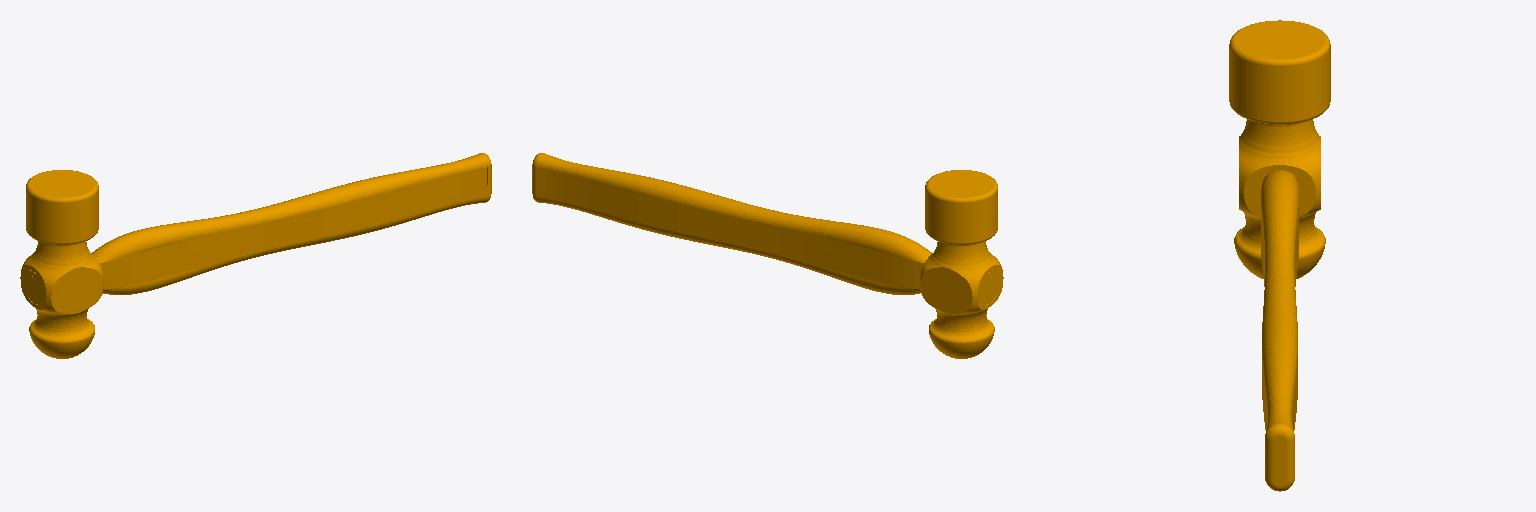
URDF robot description (hammer_2_L0.78_T0.76):
<?xml version="1.0" encoding="utf-8"?>
<robot name="hammer_2_L0.78_T0.76">
  <link name="hammer_2_L0.78_T0.76Link">
    <contact>
      <lateral_friction value="1"/>
    </contact>
    <inertial>
      <origin rpy="0 0 0" xyz="0 0 0"/>
      <mass value="0.0"/>
      <inertia ixx="0" ixy="0" ixz="0" iyy="0" iyz="0" izz="0"/>
    </inertial>
    <visual>
      <origin rpy="0 0 0" xyz="0 0 0"/>
      <geometry>
        <mesh filename="generated_stl/hammer/hammer_2/hammer_2_L0.78_T0.76/hammer_2_L0.78_T0.76.stl" scale="0.01 0.01 0.01"/>
      </geometry>
    </visual>
    <collision>
      <origin rpy="0 0 0" xyz="0 0 0"/>
      <geometry>
        <mesh filename="generated_stl/hammer/hammer_2/hammer_2_L0.78_T0.76/hammer_2_L0.78_T0.76.stl" scale="0.01 0.01 0.01"/>
      </geometry>
    </collision>
  </link>
</robot>

--- What the picture shows (computed from the rendered views, not written in the file) ---
The picture shows the robot from 3 angles, left to right: view 1: azimuth 30°, elevation 25°; view 2: azimuth 150°, elevation 25°; view 3: azimuth 270°, elevation 25°; orthographic projection.
Model hammer_2_L0.78_T0.76 with 1 links and 0 joints (none), rooted at hammer_2_L0.78_T0.76Link, posed every joint at zero.
Visible links, largest first — view 1: hammer_2_L0.78_T0.76Link; view 2: hammer_2_L0.78_T0.76Link; view 3: hammer_2_L0.78_T0.76Link.
Boxes of the visible links, bbox=[...] form: hammer_2_L0.78_T0.76Link: bbox=[20, 153, 491, 358]; hammer_2_L0.78_T0.76Link: bbox=[532, 153, 1003, 358]; hammer_2_L0.78_T0.76Link: bbox=[1229, 20, 1330, 491].
Size in the robot's own frame: 0.0627 by 0.0087 by 0.0225 metres.
Meshes: 1 distinct files referenced, 1 mesh visuals loaded (1 binary STL).